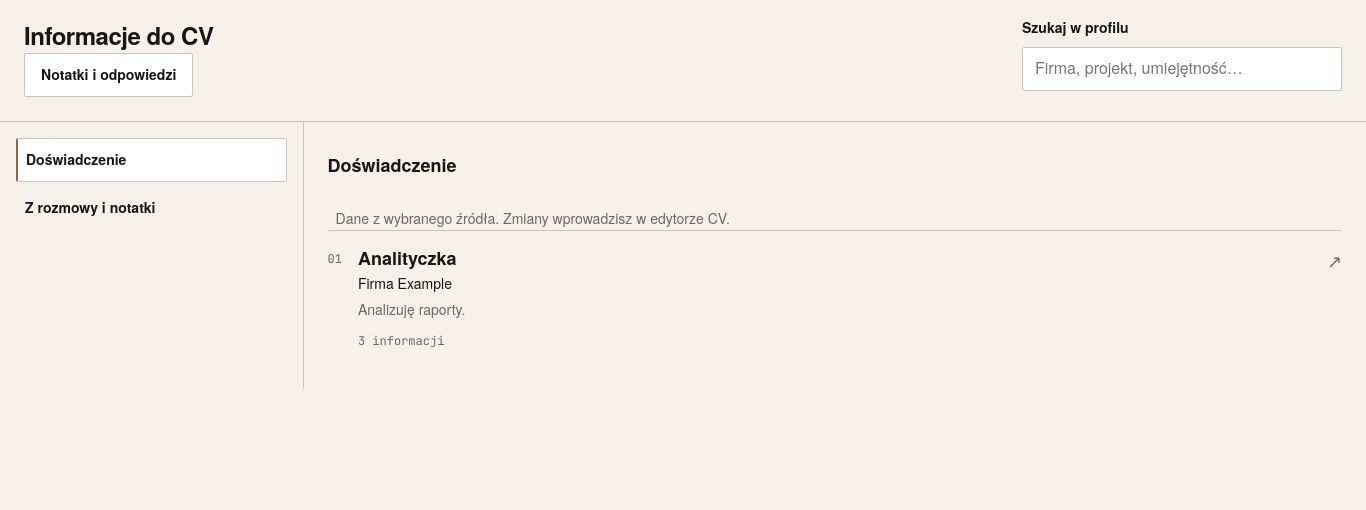
it: exposes source fields only for reading and legacy manual fields as notes
Click the button with aria-label "Otwórz wpis: Analityczka": x=407, y=258 [328, 230, 1342, 366]
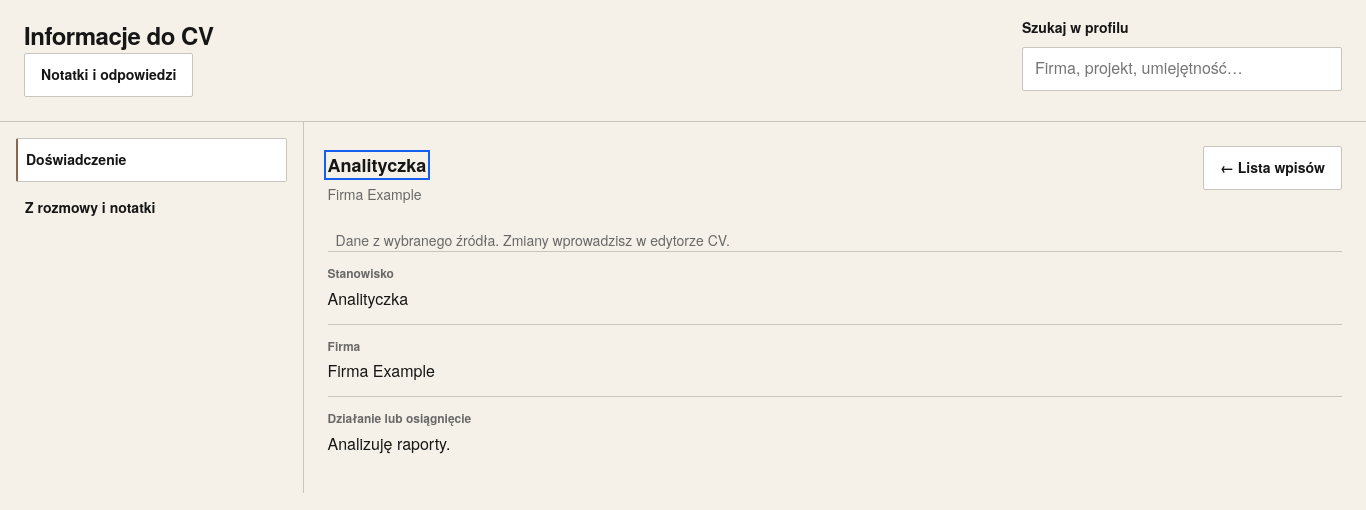
In the search field labelled "Szukaj w profilu": x=1182, y=69 [1022, 47, 1342, 91], type "Manual title"
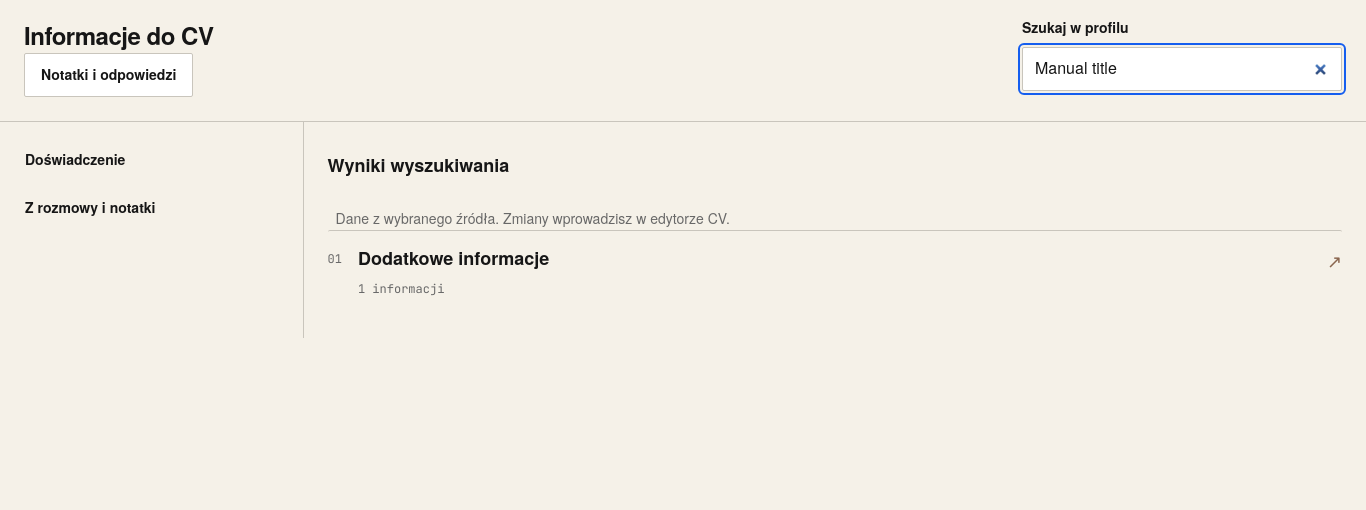
Click the button with aria-label "Otwórz wpis:": x=454, y=258 [328, 230, 1342, 314]
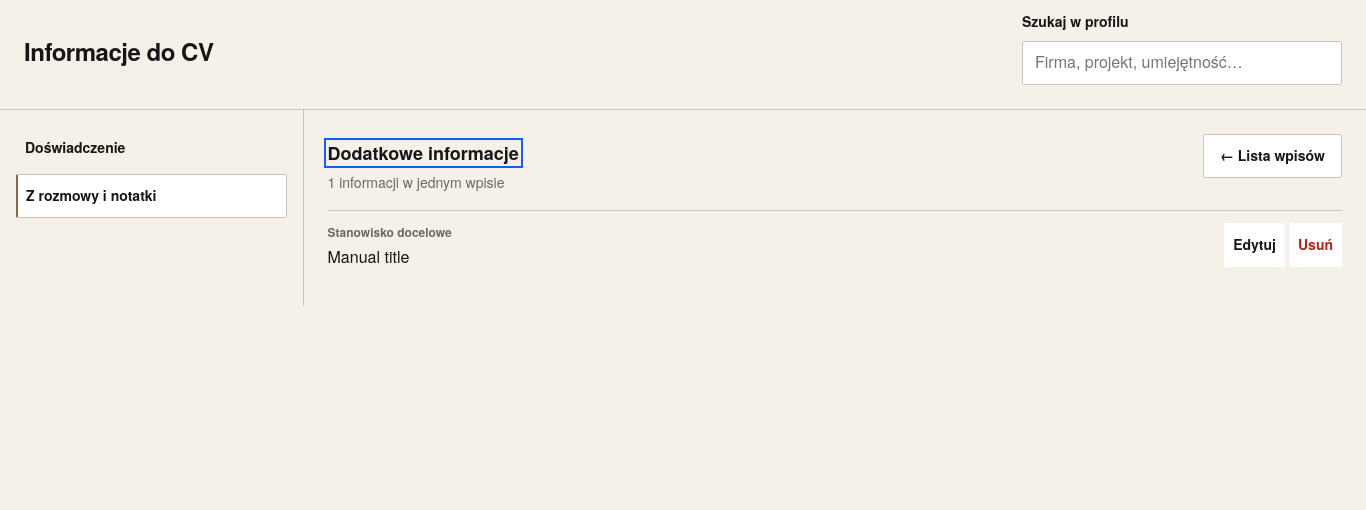
Expected: the button with aria-label "Edytuj:" is shown, [1224, 223, 1285, 267]
